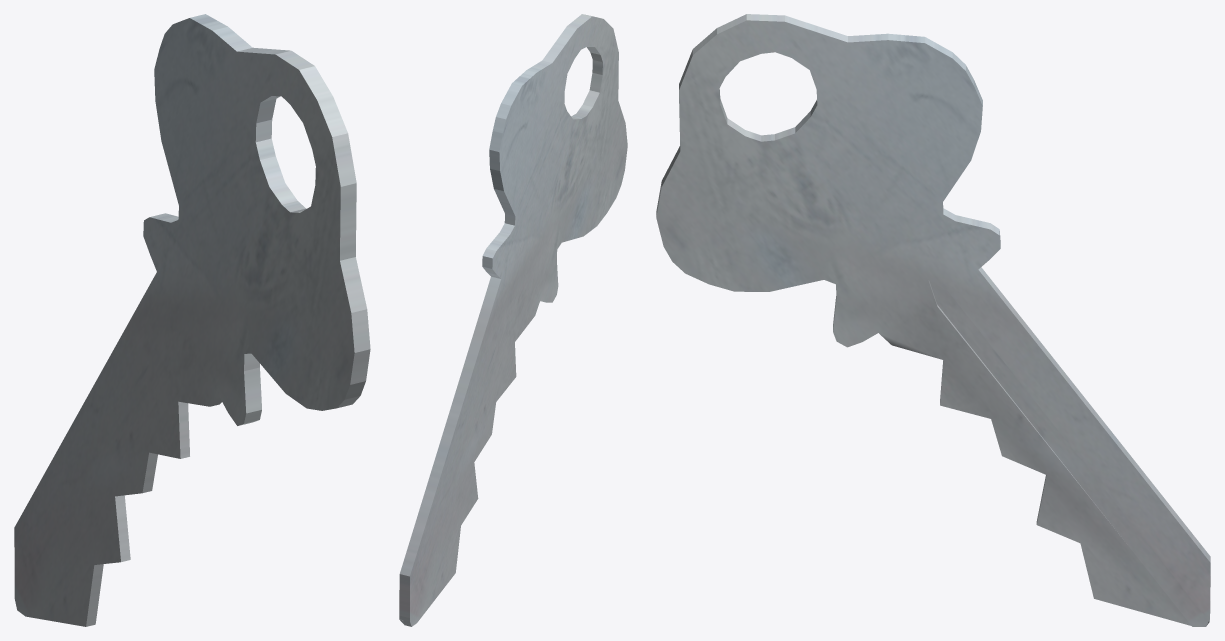
The model's file is ArtifactKey.fbx.
3 views of the same model, side by side, from view 1: azimuth 30°, elevation 25°; view 2: azimuth 150°, elevation 25°; view 3: azimuth 270°, elevation 25° (orthographic). The views are drawn at different scales.
Parts seen in each view (by area): view 1: pPlane1; view 2: pPlane1; view 3: pPlane1.
Boxes of the visible parts, x1,y1,x2,y2 form: pPlane1: (14, 14, 370, 626); pPlane1: (399, 14, 627, 626); pPlane1: (656, 14, 1210, 626).
Bounding box in the file's own units: 0.1089 × 4.53 × 3.74.
